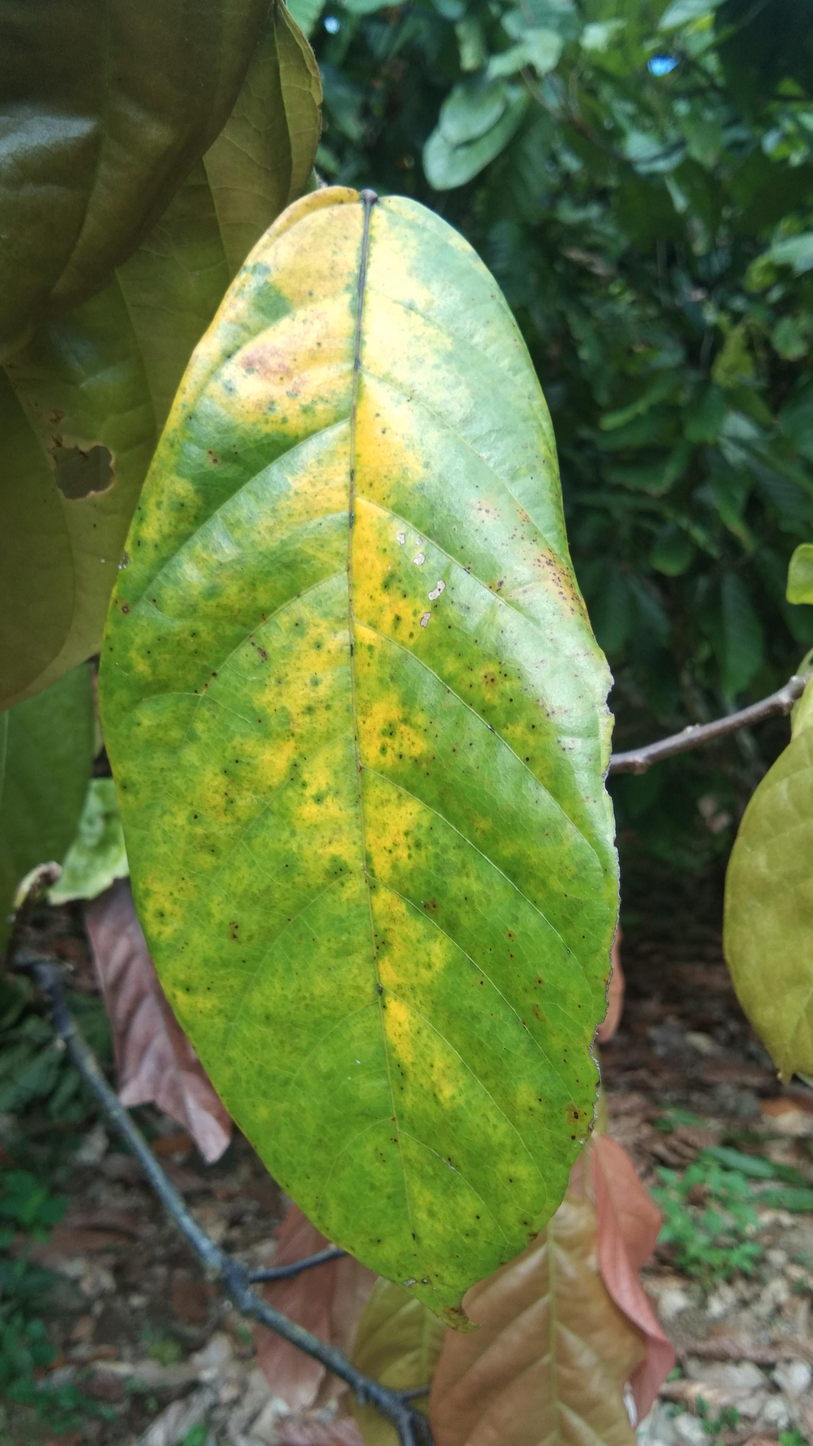deficiencia_potasio: (107, 181, 620, 1331)
